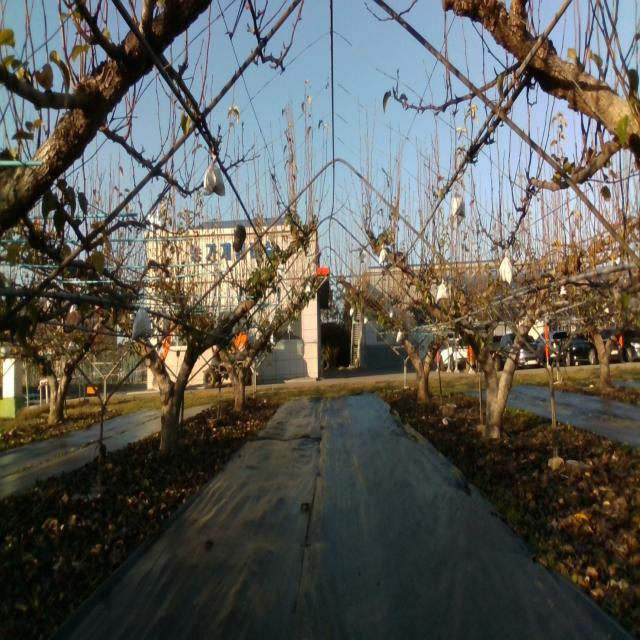pearbags: (202, 153, 226, 196), (131, 306, 152, 340), (499, 254, 512, 286), (451, 189, 465, 217), (436, 278, 449, 302)
